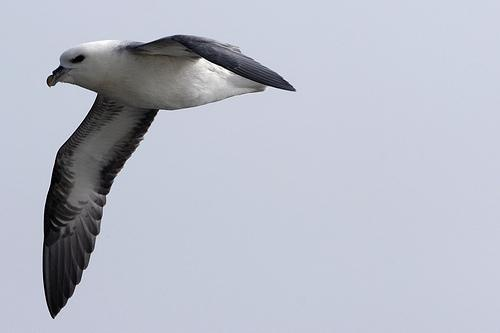bird: (32, 35, 295, 322)
